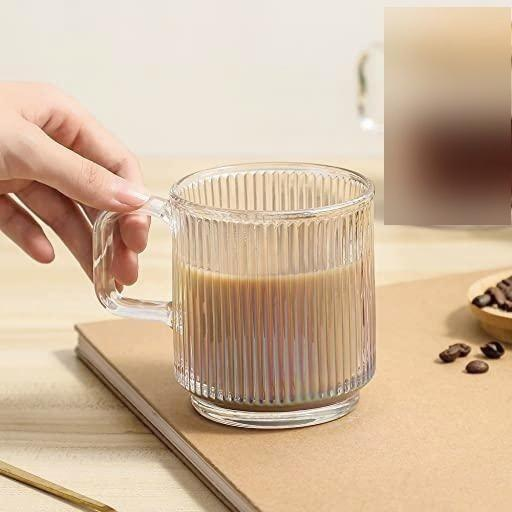glass-mug: (85, 155, 383, 435)
